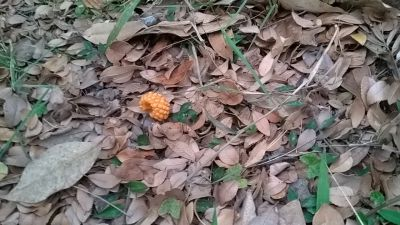eggs: (139, 90, 172, 122)
